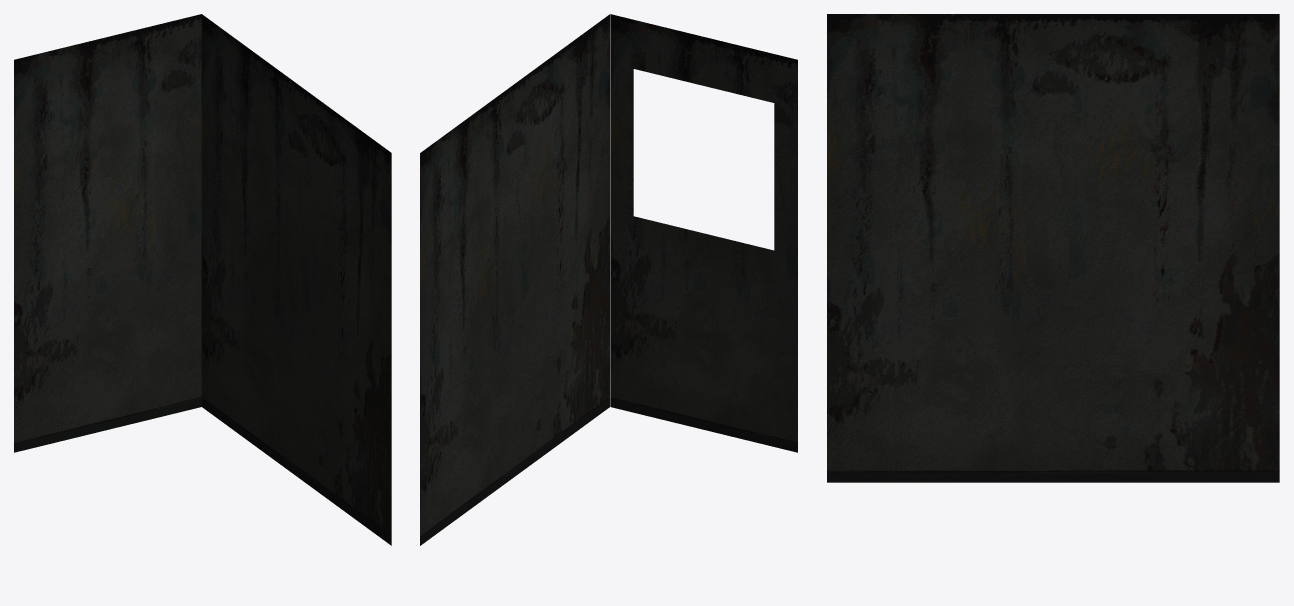
File: Walls.glb
3 views of the same model, side by side, from view 1: azimuth 30°, elevation 25°; view 2: azimuth 150°, elevation 25°; view 3: azimuth 270°, elevation 25° (orthographic). The views are drawn at different scales.
Parts seen in each view (by area): view 1: Mesh_SideWalls, Mesh_BackWall; view 2: Mesh_SideWalls, Mesh_WallBucato; view 3: Mesh_SideWalls.
Boxes of the visible parts, x1,y1,x2,y2 form: Mesh_SideWalls: (201,14,391,545); Mesh_BackWall: (14,14,201,452); Mesh_SideWalls: (420,14,609,545); Mesh_WallBucato: (610,14,797,452); Mesh_SideWalls: (827,14,1279,482).
Size of the model in its own units: 800 by 1600 by 1403.
Materials: 2 (2 with a texture image).
